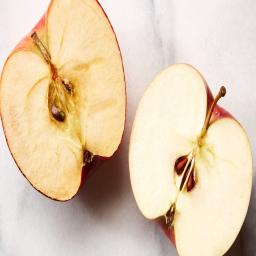apple: (0, 0, 128, 225), (127, 37, 256, 256)
